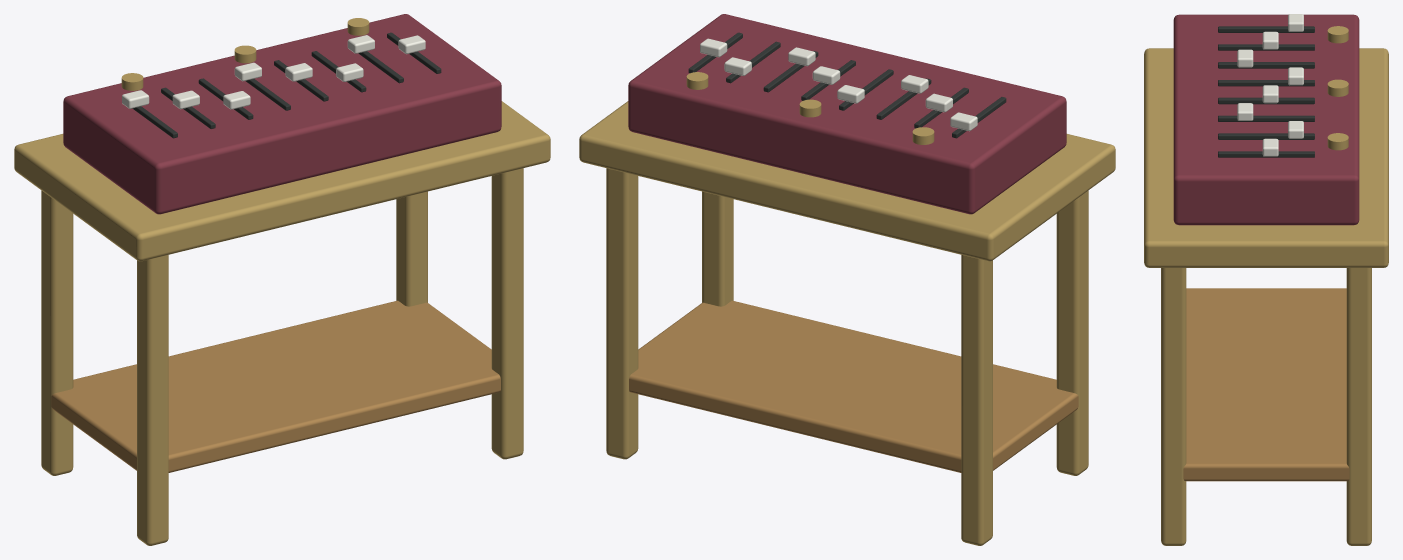
File: abandoned-puppet-theatre-and-prop-vault-lighting-contr-fa7fd39b.glb
The picture shows the model from 3 angles, left to right: view 1: azimuth 30°, elevation 25°; view 2: azimuth 150°, elevation 25°; view 3: azimuth 270°, elevation 25°; orthographic projection. The views are drawn at different scales.
Parts seen in each view (by area): view 1: lighting-control-desk; view 2: lighting-control-desk; view 3: lighting-control-desk.
Boxes of the visible parts, box(x1,y1,x2,y2) form: lighting-control-desk: box(14, 14, 550, 545); lighting-control-desk: box(579, 14, 1115, 545); lighting-control-desk: box(1144, 14, 1388, 545).
Bounding box in the file's own units: 1.1 × 0.988 × 0.58.
